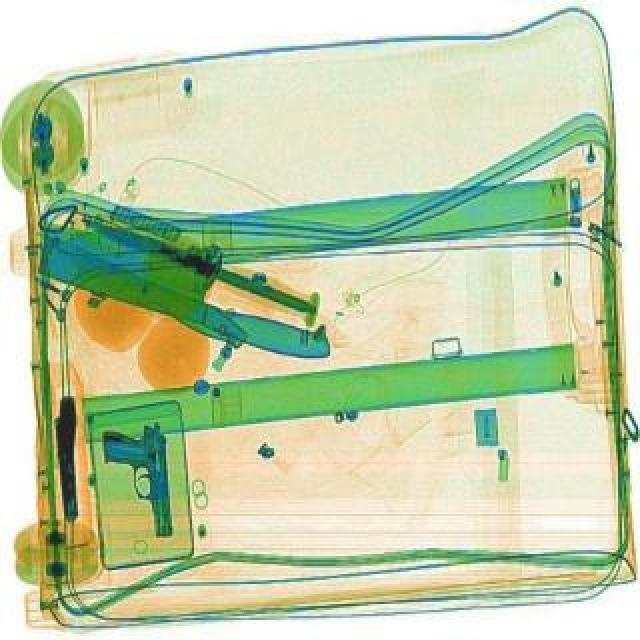gun: (98, 416, 178, 540), (50, 396, 84, 520)
knife: (24, 212, 344, 374), (26, 216, 254, 356), (76, 208, 314, 316)
